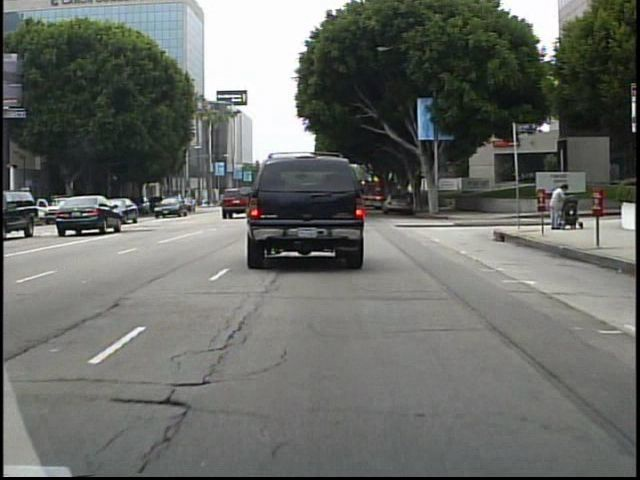person: (547, 178, 569, 233)
